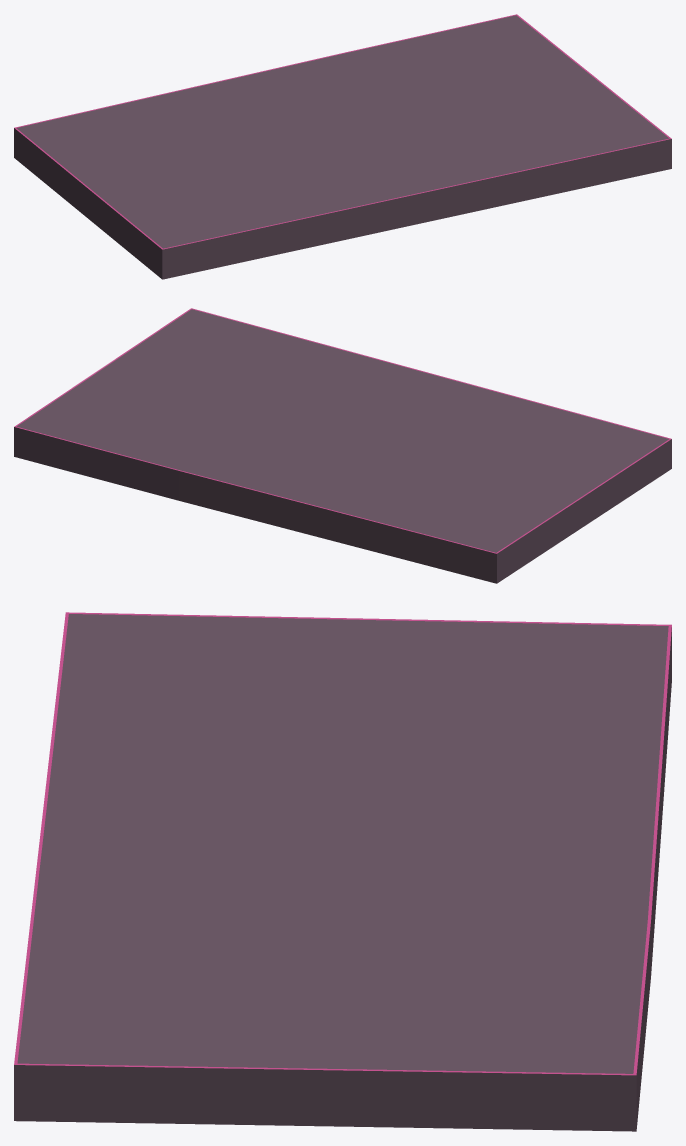
Rendered from way-1275168866.glb.
The picture shows the model from 3 angles, top to bottom: view 1: azimuth 30°, elevation 25°; view 2: azimuth 150°, elevation 25°; view 3: azimuth 270°, elevation 25°; orthographic projection. The views are drawn at different scales.
Parts seen in each view (by area): view 1: way-1275168866; view 2: way-1275168866; view 3: way-1275168866.
Boxes of the visible parts, left/top/right/bottom form: way-1275168866: left=14, top=14, right=671, bottom=279; way-1275168866: left=14, top=308, right=671, bottom=583; way-1275168866: left=14, top=612, right=671, bottom=1131.
Bounding box in the file's own units: 53.05 × 3 × 31.86.
